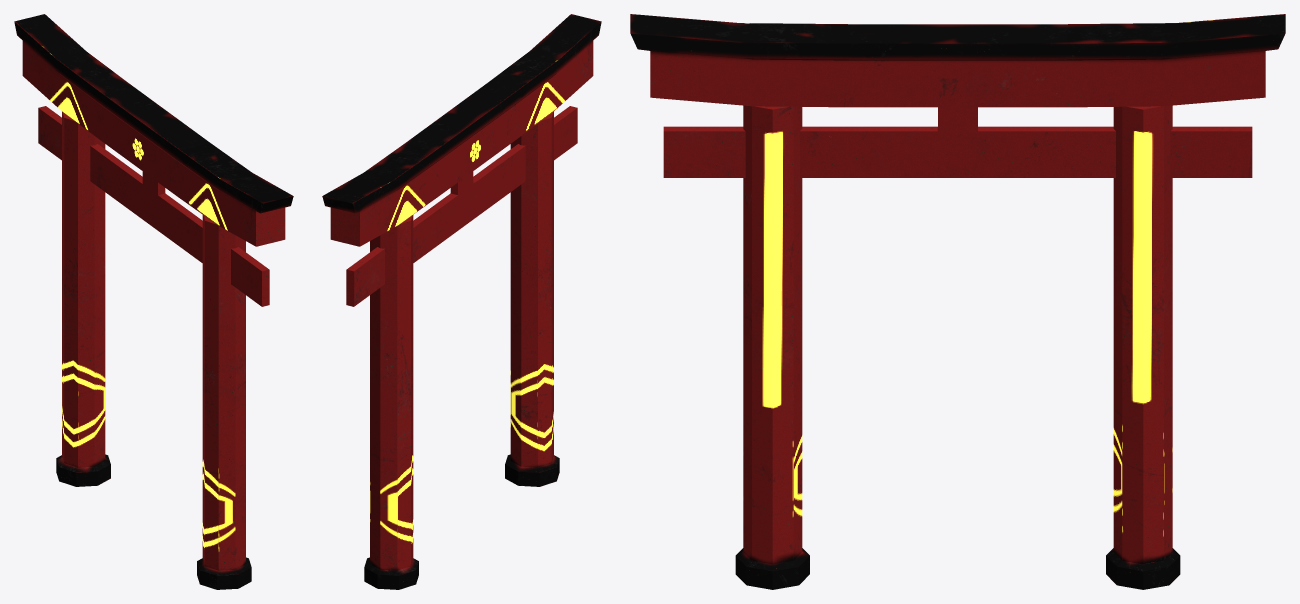
The model's file is PortailJapon.fbx.
3 views of the same model, side by side, from view 1: azimuth 30°, elevation 25°; view 2: azimuth 150°, elevation 25°; view 3: azimuth 270°, elevation 25° (orthographic). The views are drawn at different scales.
Visible parts, largest first — view 1: Portail; view 2: Portail; view 3: Portail.
Part boxes in pixels (x1,y1,x2,y2): Portail: [14, 14, 293, 589]; Portail: [322, 14, 601, 589]; Portail: [630, 14, 1285, 589].
Bounding box in the file's own units: 81.2 × 663 × 715.
Materials: 1 (1 with a texture image).
